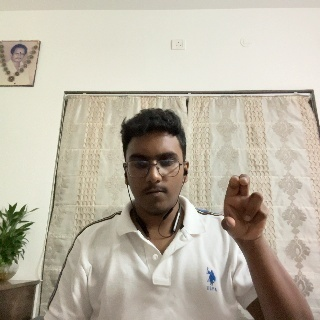Face: (124, 109, 188, 223)
No: (222, 172, 273, 254)
